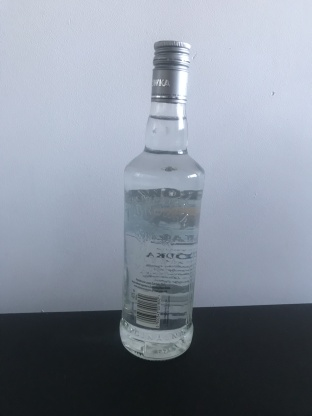nakretka: (149, 37, 192, 105)
